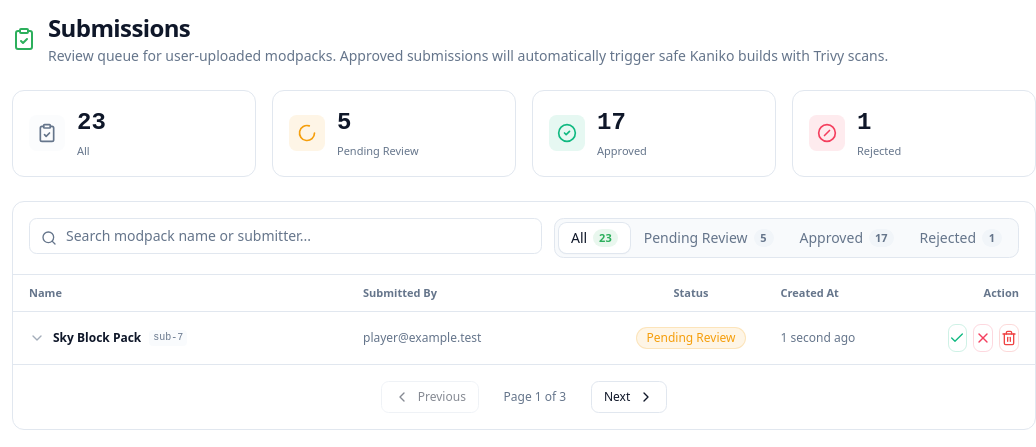
Scenario: SubmissionsPage › keeps a page turned to right after the queue loads
Expected: the text "Page 1 of 3" is shown, left=504, top=388, right=566, bottom=405
Click the button "Next" at (629, 397), box left=591, top=381, right=667, bottom=413
Wait 1000 ms
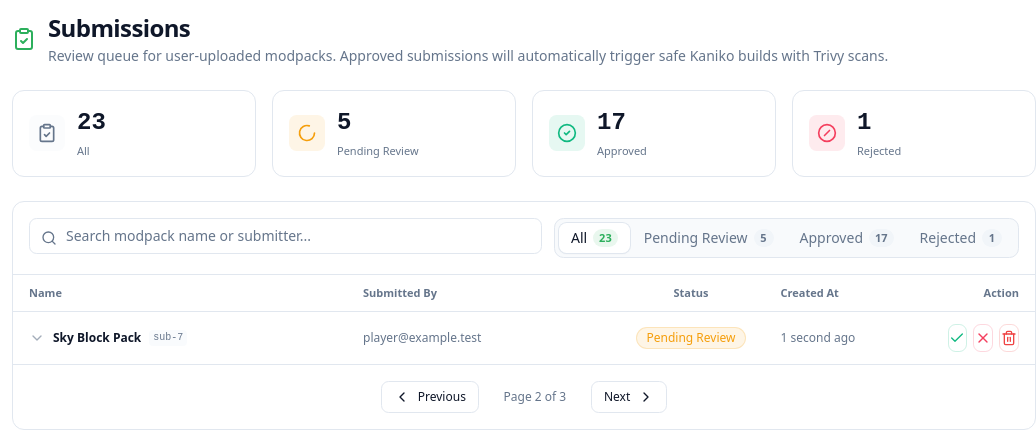
Expected: the text "Page 2 of 3" is shown, left=504, top=388, right=566, bottom=405
